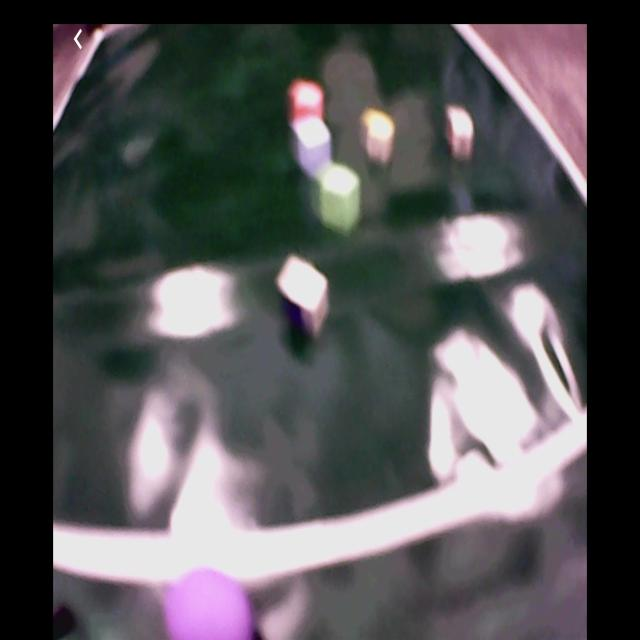ball: (163, 565, 253, 640)
